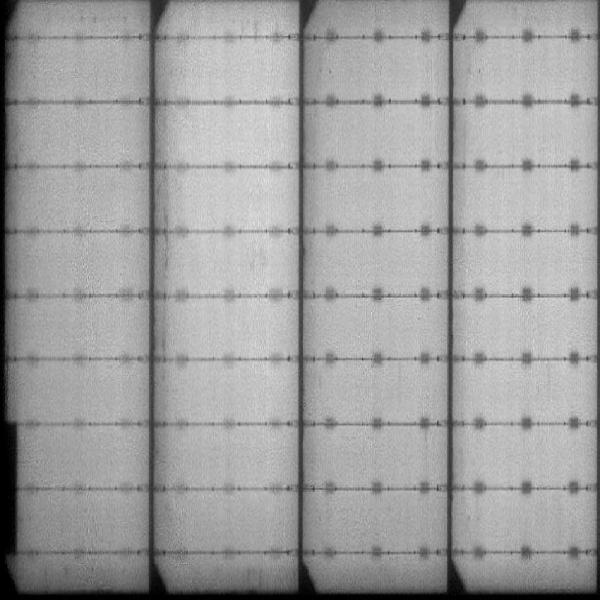black_border: (1, 415, 23, 561)
